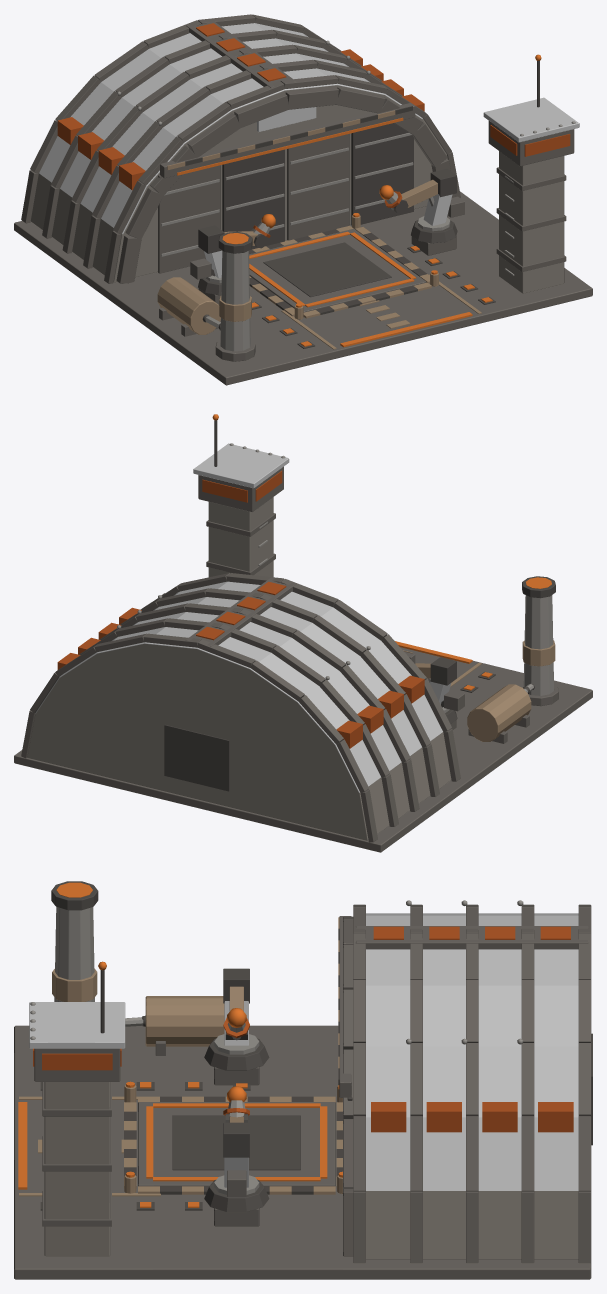
File: crucible_aircraft_plant.glb
3 renders of one model, top to bottom at view 1: azimuth 30°, elevation 25°; view 2: azimuth 150°, elevation 25°; view 3: azimuth 270°, elevation 25°, orthographic. The views are drawn at different scales.
Visible parts, largest first — view 1: Body; view 2: Body; view 3: Body.
Boxes of the visible parts, left/top/right/bottom form: Body: left=14, top=14, right=592, bottom=385; Body: left=14, top=414, right=592, bottom=852; Body: left=14, top=881, right=592, bottom=1279.
Size of the model in its own units: 22.8 by 13.23 by 22.87.
